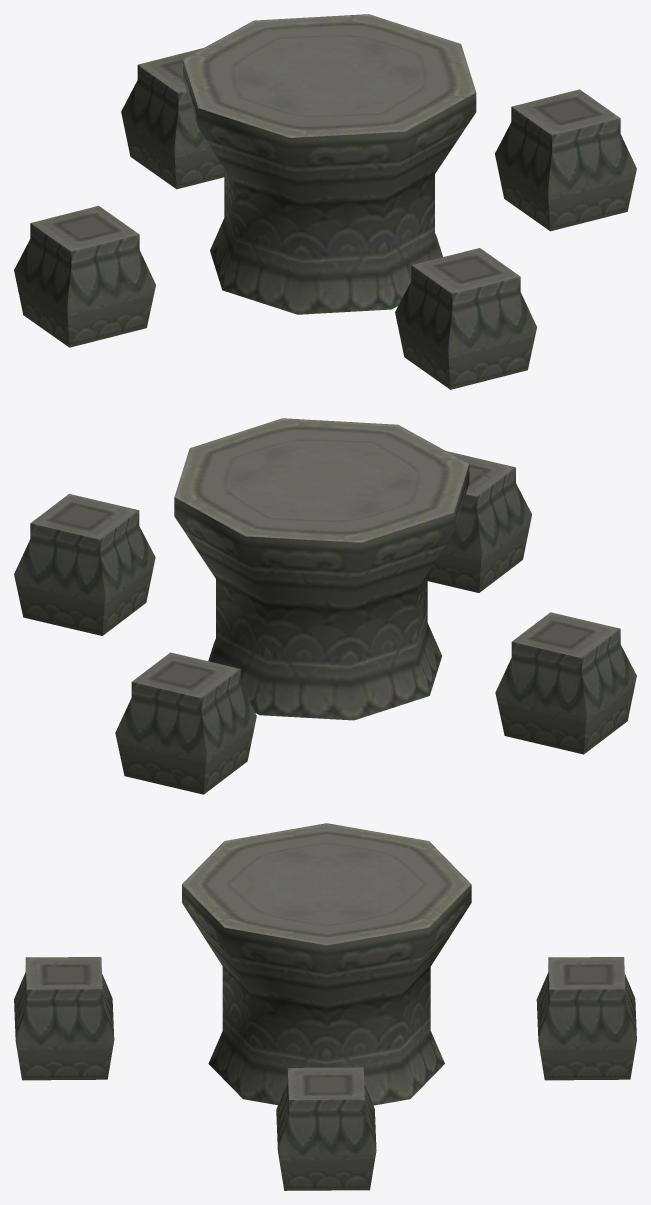
File: Yland1_bj_17 Yland1.FBX
The picture shows the model from 3 angles, top to bottom: view 1: azimuth 30°, elevation 25°; view 2: azimuth 150°, elevation 25°; view 3: azimuth 270°, elevation 25°; orthographic projection. The views are drawn at different scales.
Parts seen in each view (by area): view 1: Yland1_bj_17 Yland1; view 2: Yland1_bj_17 Yland1; view 3: Yland1_bj_17 Yland1.
Boxes of the visible parts, x1,y1,x2,y2 form: Yland1_bj_17 Yland1: (14, 14, 636, 389); Yland1_bj_17 Yland1: (14, 418, 636, 794); Yland1_bj_17 Yland1: (14, 823, 636, 1190).
Bounding box in the file's own units: 3.96 × 1.24 × 3.92.
